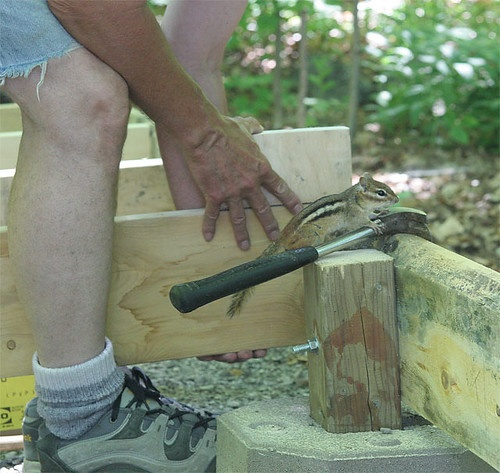hammer: (167, 204, 444, 318)
